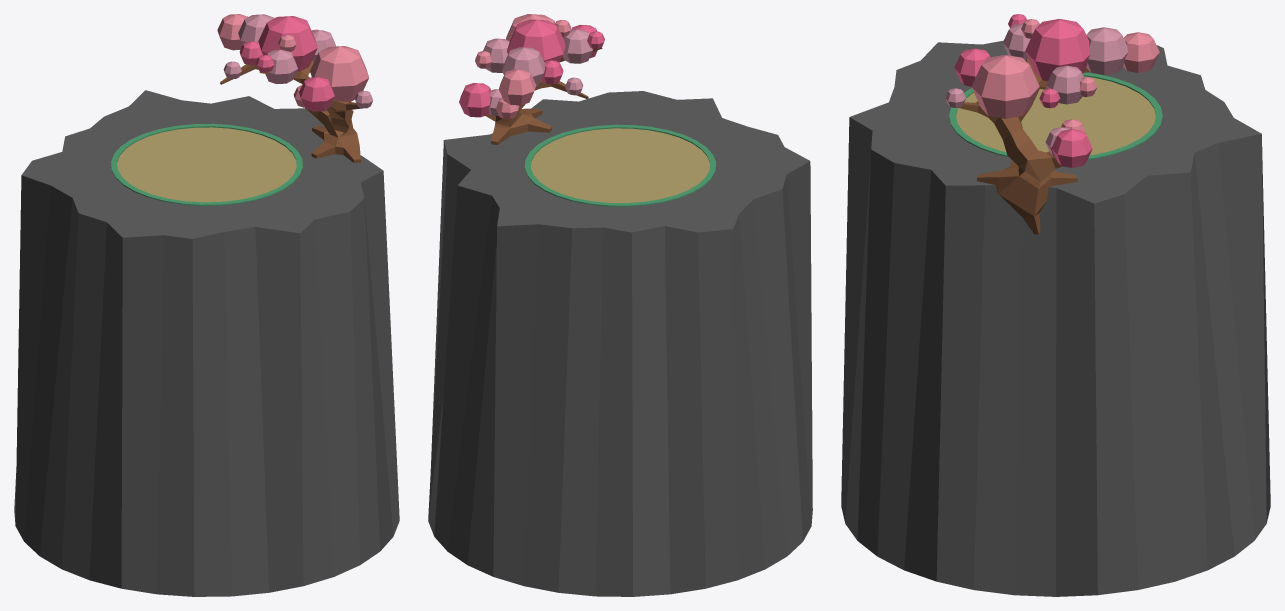
Rendered from HomeTown_000.fbx.
The picture shows the model from 3 angles, left to right: view 1: azimuth 30°, elevation 25°; view 2: azimuth 150°, elevation 25°; view 3: azimuth 270°, elevation 25°; orthographic projection. The views are drawn at different scales.
Visible parts, largest first — view 1: Base, Tree, Sphere.007, Sphere.006, Sphere.004, Sphere.003, Sphere.011, Sphere.016; view 2: Base, Sphere.006, Tree, Sphere.011, Sphere.016, Sphere.005, Sphere.003, Sphere.002; view 3: Base, Tree, Sphere.007, Sphere.006, Sphere.016, Sphere.005, Sphere.011, Sphere.002, Sphere.004, Sphere.003.
Part boxes in pixels (left/top/right/bottom): Base: left=14, top=90, right=399, bottom=596; Tree: left=220, top=45, right=361, bottom=163; Sphere.007: left=310, top=46, right=368, bottom=101; Sphere.006: left=258, top=16, right=317, bottom=71; Sphere.004: left=299, top=77, right=334, bottom=111; Sphere.003: left=265, top=49, right=297, bottom=83; Sphere.011: left=217, top=14, right=247, bottom=50; Sphere.016: left=238, top=14, right=274, bottom=44; Base: left=428, top=91, right=812, bottom=596; Sphere.006: left=507, top=19, right=565, bottom=62; Tree: left=485, top=48, right=602, bottom=144; Sphere.011: left=498, top=69, right=536, bottom=105; Sphere.016: left=502, top=47, right=544, bottom=86; Sphere.005: left=459, top=83, right=491, bottom=117; Sphere.003: left=562, top=29, right=592, bottom=63; Sphere.002: left=483, top=38, right=509, bottom=72; Base: left=841, top=40, right=1270, bottom=596; Tree: left=958, top=58, right=1089, bottom=234; Sphere.007: left=971, top=54, right=1039, bottom=118; Sphere.006: left=1025, top=19, right=1090, bottom=81; Sphere.016: left=1086, top=27, right=1128, bottom=74; Sphere.005: left=1051, top=129, right=1092, bottom=167; Sphere.011: left=1123, top=32, right=1159, bottom=72; Sphere.002: left=1046, top=65, right=1083, bottom=104; Sphere.004: left=954, top=48, right=990, bottom=86; Sphere.003: left=1003, top=23, right=1030, bottom=60.
Bounding box in the file's own units: 32 × 32 × 43.65.
